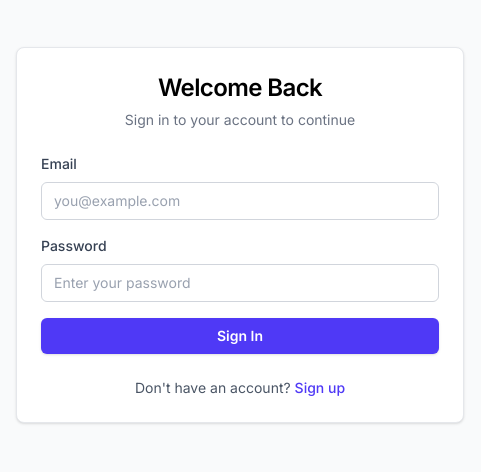
it: LoginPage with API › handles rate limit error
Type "test@example.com" into the field labelled "Email" at (240, 201), box [41, 182, 439, 220]
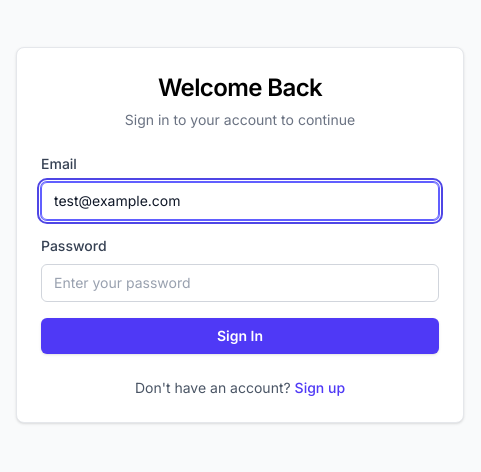
Type "password123" into the password field labelled "Password" at (240, 283), box [41, 264, 439, 302]
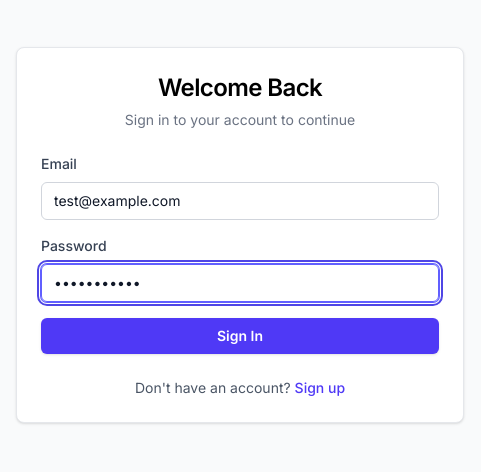
Click the button "Sign In" at (240, 336), box [41, 318, 439, 354]
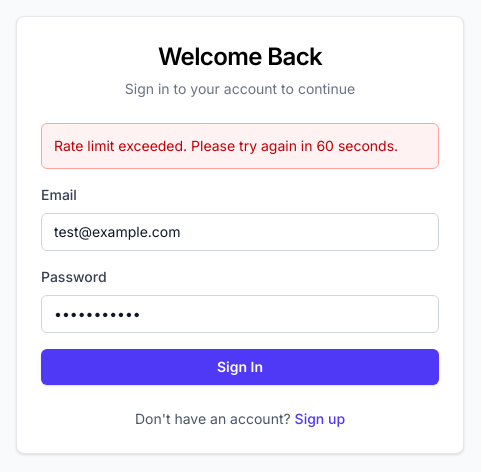
expect the text "Rate limit exceeded. Please try again in 60 seconds." is shown: met, box [41, 123, 439, 169]
